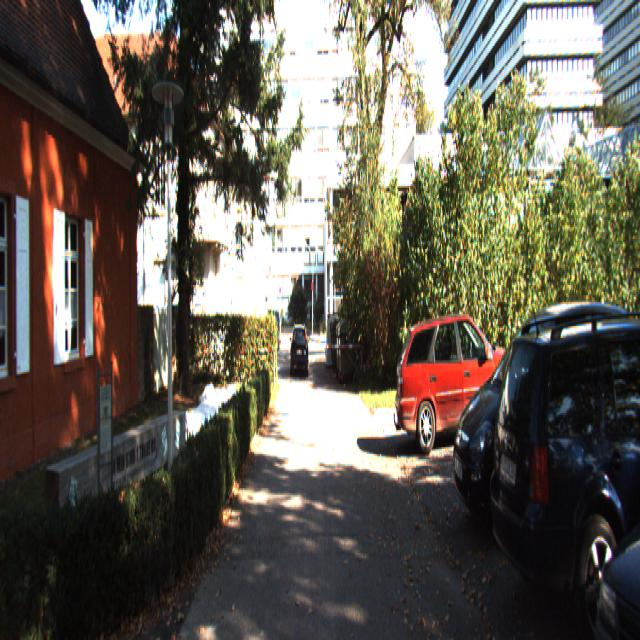Car: (488, 309, 640, 638), (450, 296, 639, 545), (572, 304, 640, 638), (394, 308, 532, 457), (291, 322, 309, 378)
